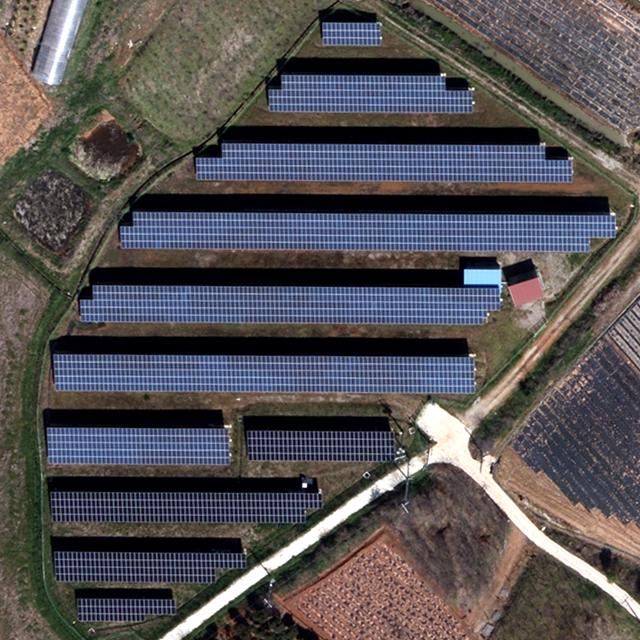panel: (116, 209, 617, 258), (50, 351, 480, 397), (77, 283, 502, 327), (192, 142, 575, 186), (45, 486, 324, 529), (271, 71, 477, 114), (43, 424, 233, 469), (50, 547, 248, 583), (243, 426, 396, 465), (75, 594, 182, 625), (319, 19, 383, 49)
